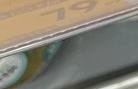1d: (0, 22, 62, 53)
